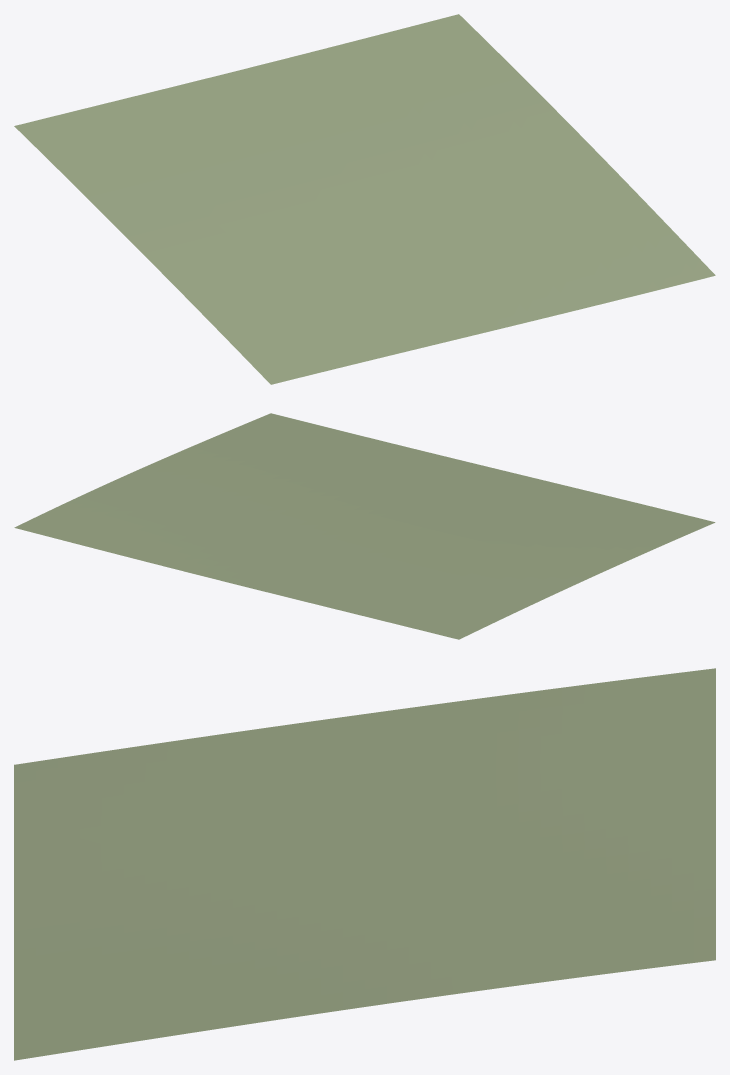
Rendered from desert-28-10.glb.
3 views of the same model, one above another, from view 1: azimuth 30°, elevation 25°; view 2: azimuth 150°, elevation 25°; view 3: azimuth 270°, elevation 25° (orthographic). The views are drawn at different scales.
Parts seen in each view (by area): view 1: desert-28-10; view 2: desert-28-10; view 3: desert-28-10.
Part boxes in pixels (<box>): desert-28-10: <box>14,14,715,384</box>; desert-28-10: <box>14,413,715,639</box>; desert-28-10: <box>14,668,715,1060</box>.
Size of the model in its own units: 512 by 81.57 by 512.
